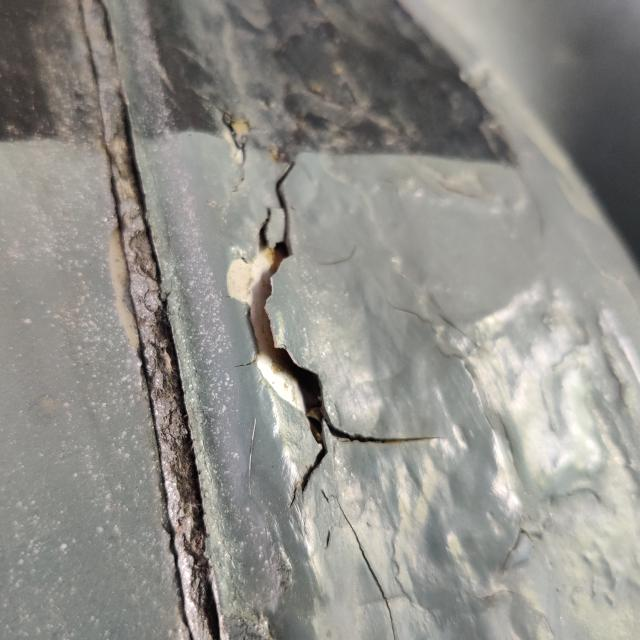crack: (222, 134, 461, 523)
